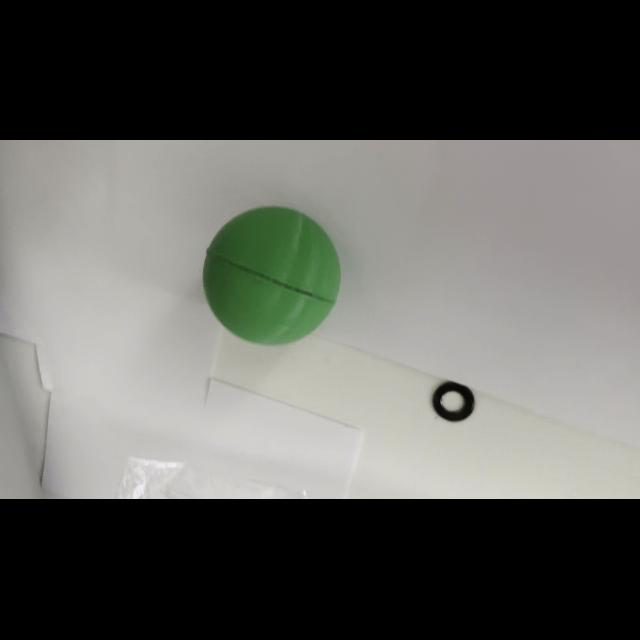objects: (199, 202, 349, 352)
